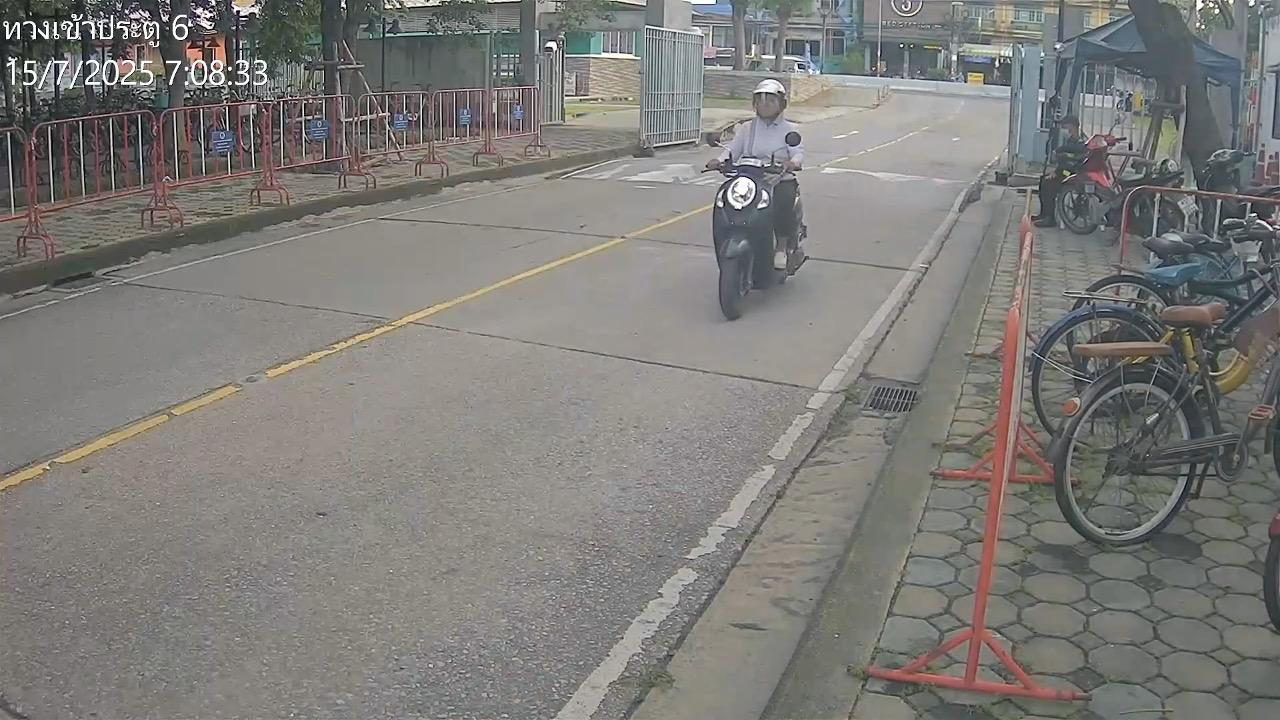With-Helmet: (753, 80, 789, 118)
